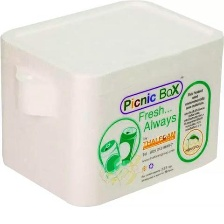foam_box: (0, 0, 224, 209)
